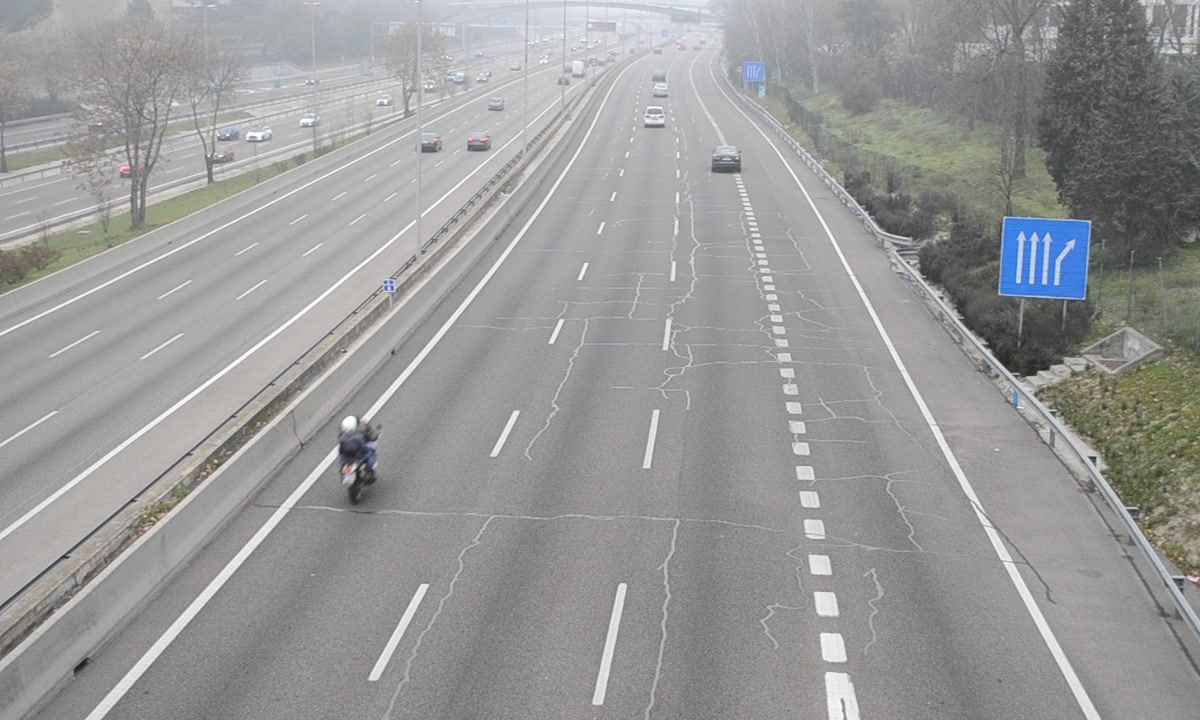car: (710, 144, 741, 173), (643, 107, 667, 130)
motorcycle: (335, 412, 378, 504)
